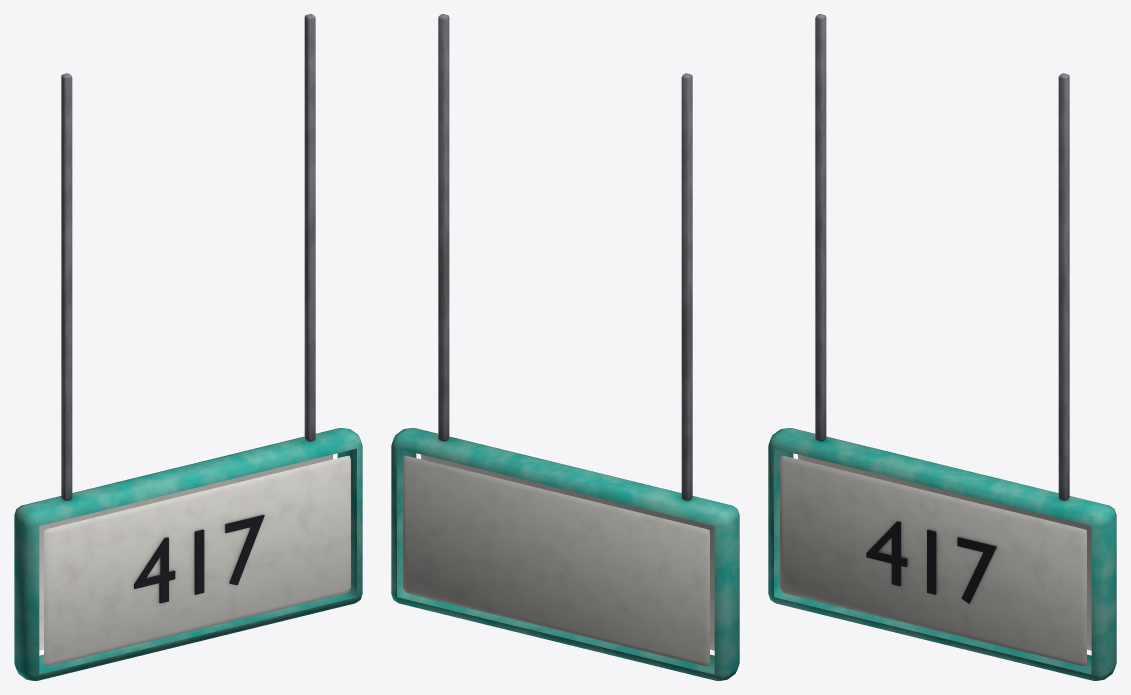
The model's file is aisle_sign.fbx.
3 renders of one model, left to right at view 1: azimuth 30°, elevation 25°; view 2: azimuth 150°, elevation 25°; view 3: azimuth 330°, elevation 25°, orthographic.
Visible parts, largest first — view 1: Body; view 2: Body; view 3: Body.
Boxes of the visible parts, x1,y1,x2,y2 form: Body: (14,14,362,680); Body: (391,14,739,680); Body: (768,14,1116,680).
Size of the model in its own units: 5 by 8.4 by 0.55.
1 material, 1 textured.
